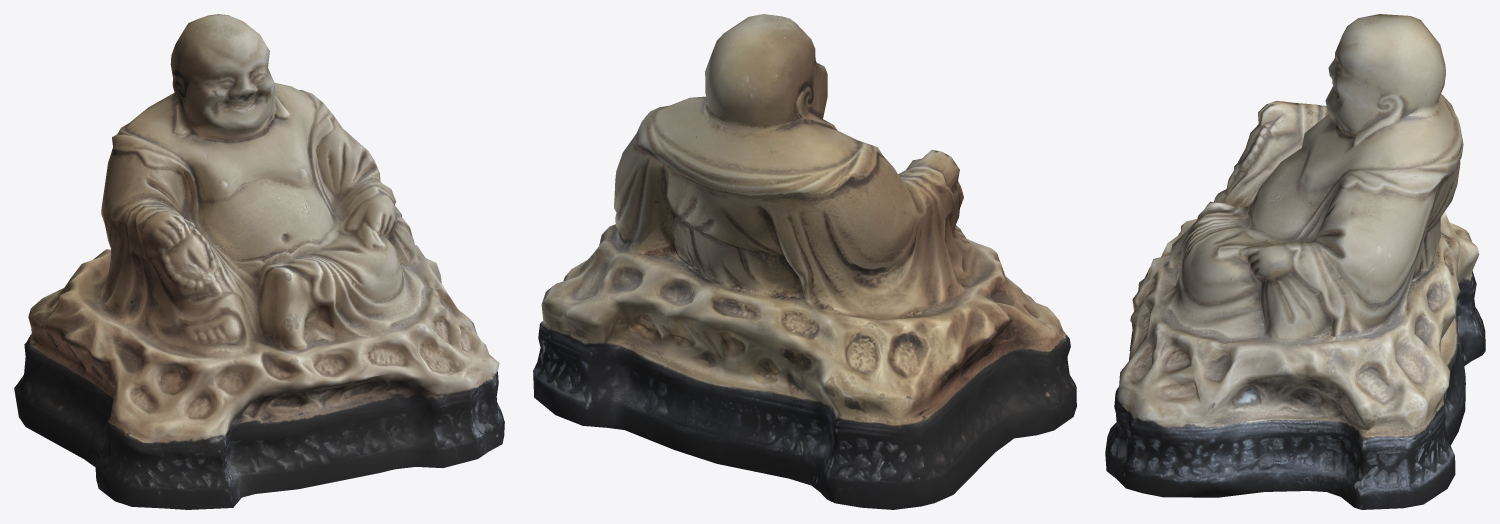
File: buddha_big.glb
The picture shows the model from 3 angles, left to right: view 1: azimuth 30°, elevation 25°; view 2: azimuth 150°, elevation 25°; view 3: azimuth 270°, elevation 25°; orthographic projection. The views are drawn at different scales.
Visible parts, largest first — view 1: Buddha; view 2: Buddha; view 3: Buddha.
Part boxes in pixels (bbox=[...]): Buddha: bbox=[14, 14, 504, 509]; Buddha: bbox=[533, 14, 1076, 509]; Buddha: bbox=[1105, 14, 1485, 509].
Size of the model in its own units: 3.59 by 3.23 by 2.86.
1 material, 1 textured.
